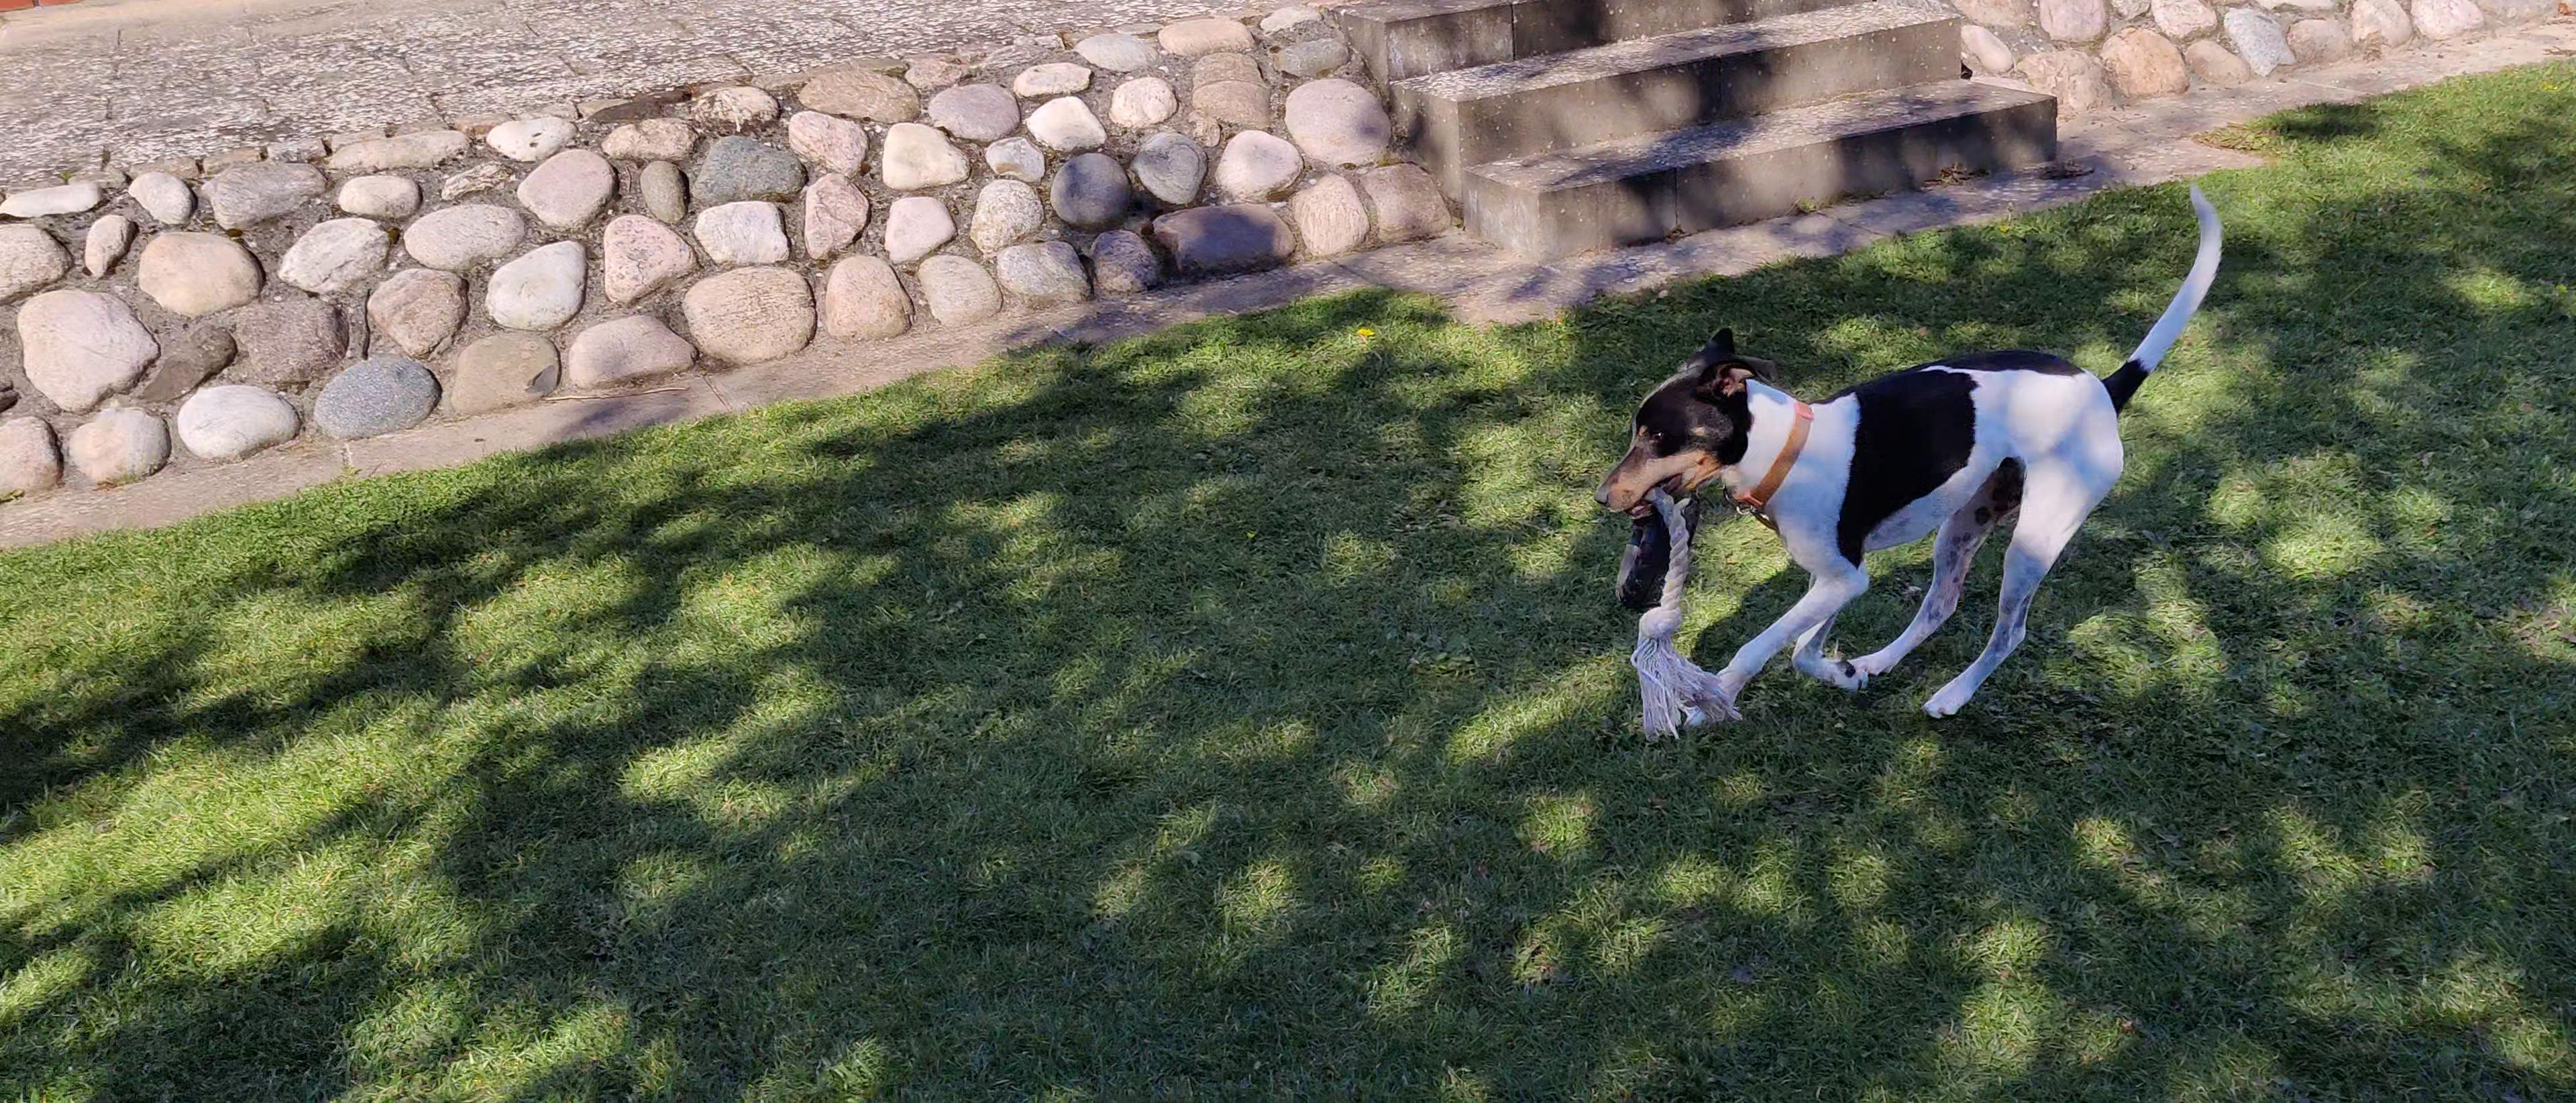Dog: (1580, 176, 2228, 727)
